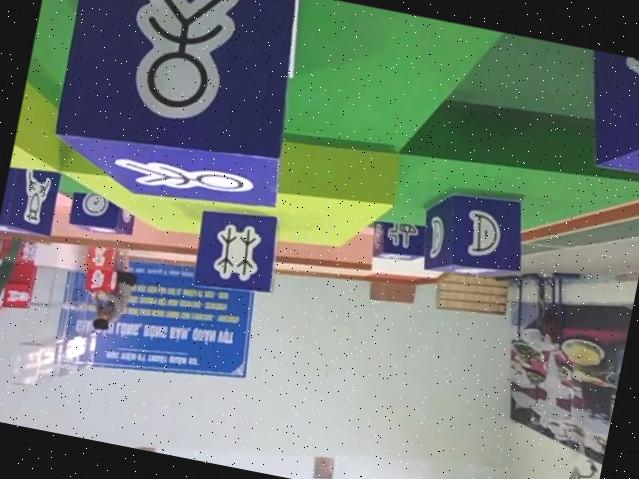R2 Real Blue: (42, 0, 316, 220), (416, 181, 536, 286), (190, 200, 288, 298), (571, 48, 639, 176), (0, 162, 59, 242), (67, 188, 139, 239), (369, 215, 432, 265)
